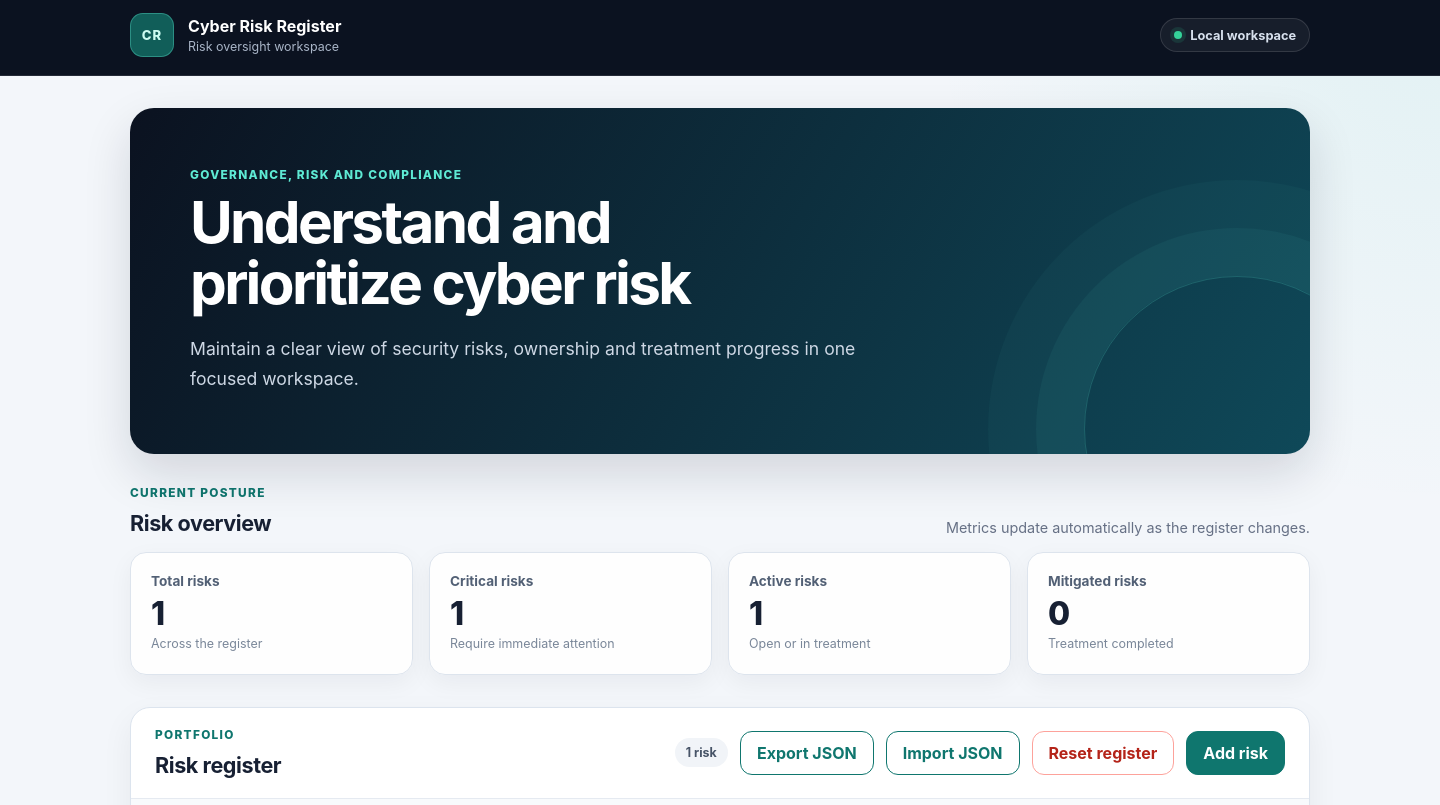
App risk reset › restores and persists the original demo register
Check: the text "1 risk" is shown, box [674,738,728,767]
Click the button "Reset register": (1103, 753) [1032,731,1174,775]
(page scrolled)
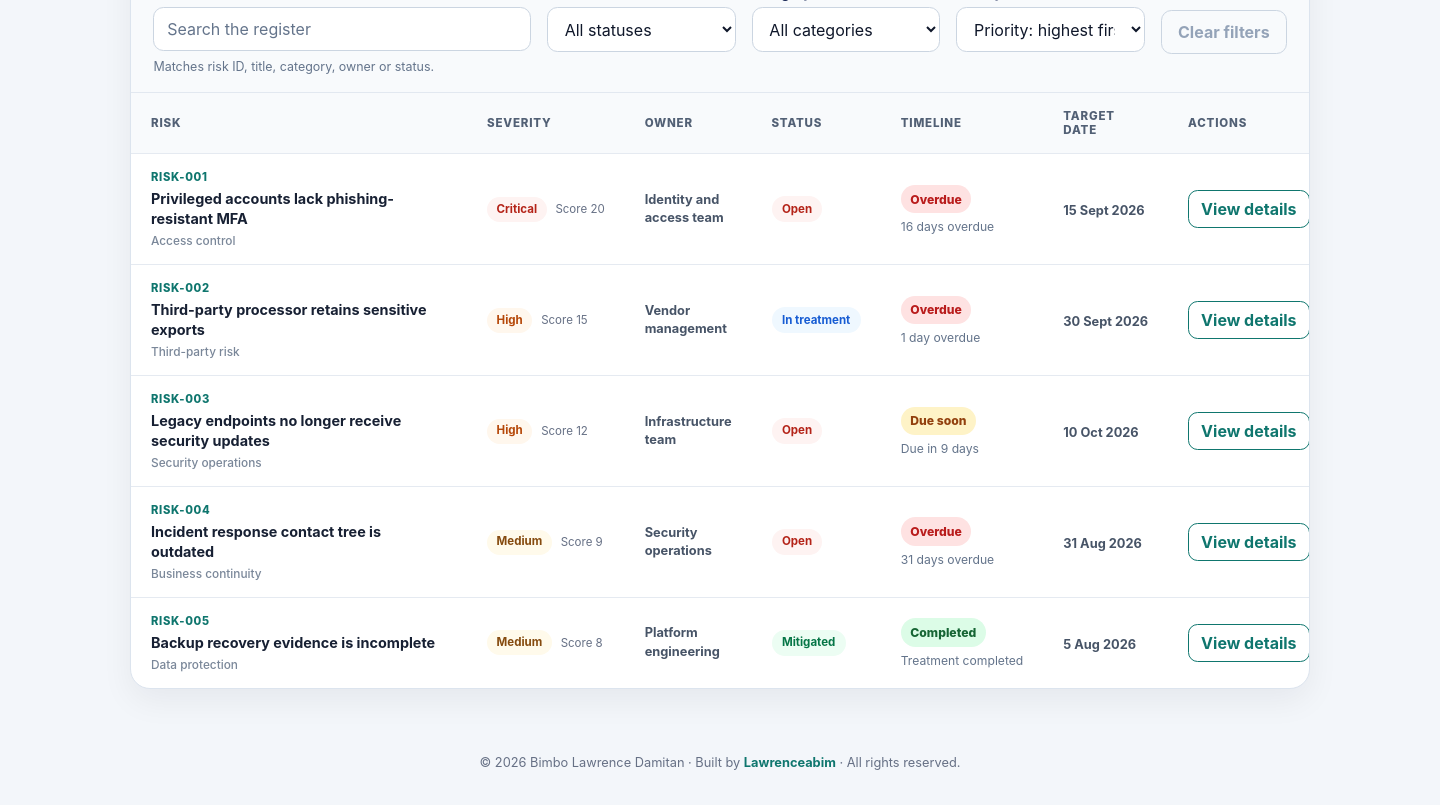
Check: the text "RISK-001" is shown, box [151,170,208,184]
Check: the text "RISK-005" is shown, box [151,614,210,628]
